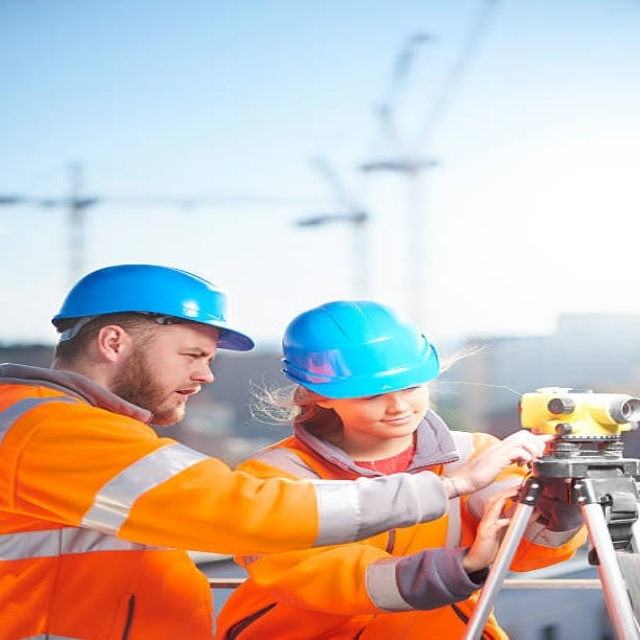Sin_gafas: (154, 342, 216, 367)
Sin_guantes: (445, 427, 555, 494), (465, 487, 528, 571)
Sin_mascara: (365, 407, 425, 437), (158, 382, 207, 417)
